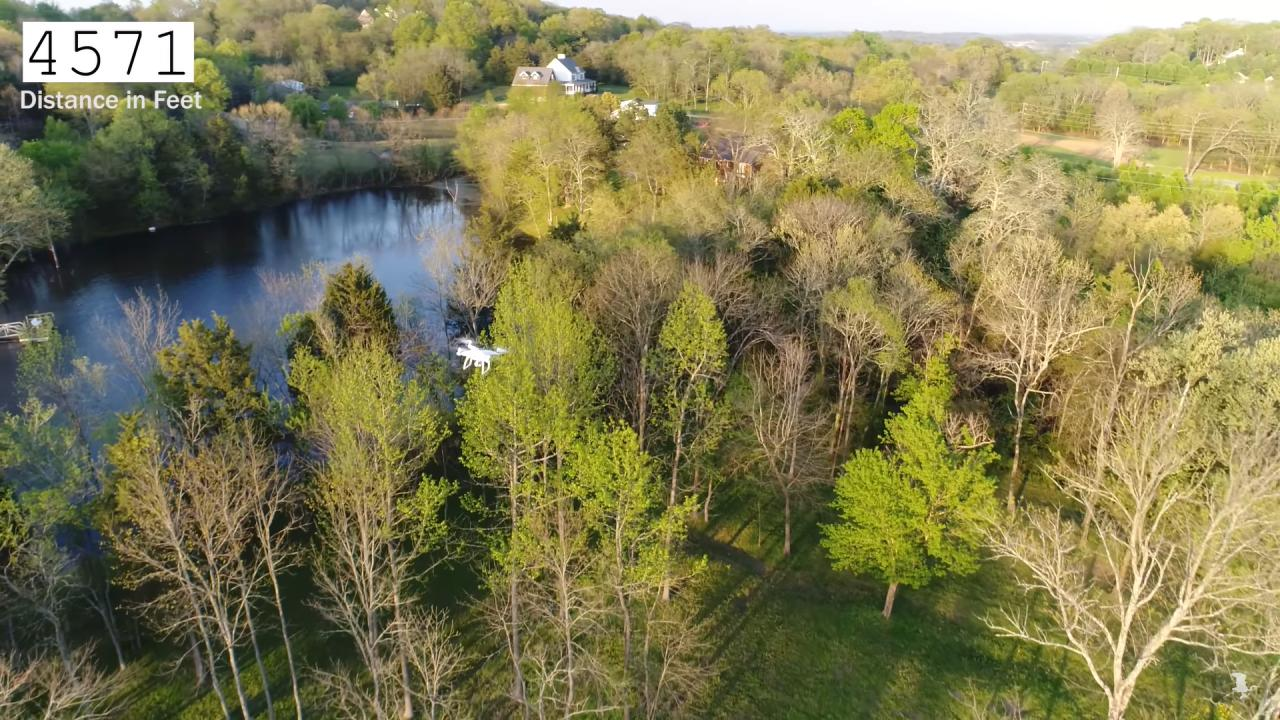Drone: (449, 332, 515, 378)
